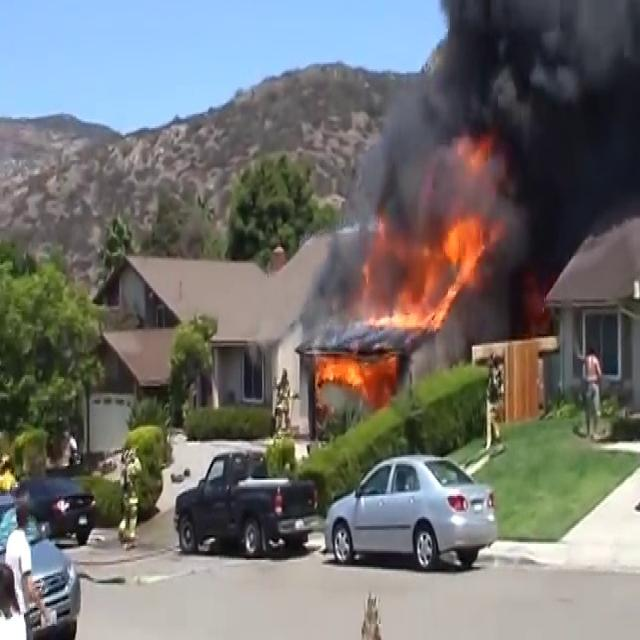Fire: (388, 211, 498, 333), (312, 350, 380, 392)
Smoke: (387, 0, 640, 318), (309, 160, 408, 342)
